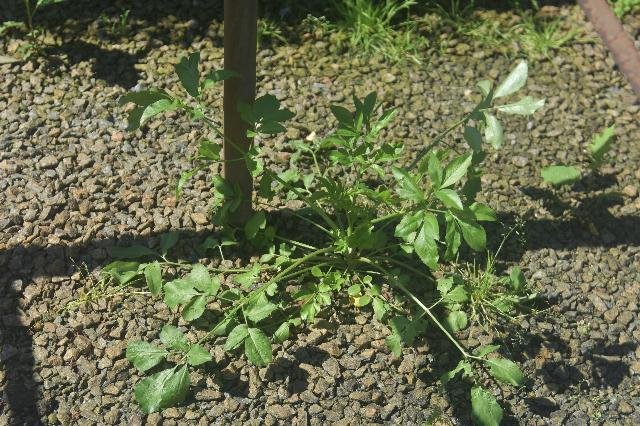MalezaMontesDelPlata: (109, 49, 351, 286), (98, 225, 344, 426), (339, 58, 544, 268), (342, 228, 550, 426), (425, 1, 597, 58), (309, 0, 420, 69), (538, 118, 622, 196)
